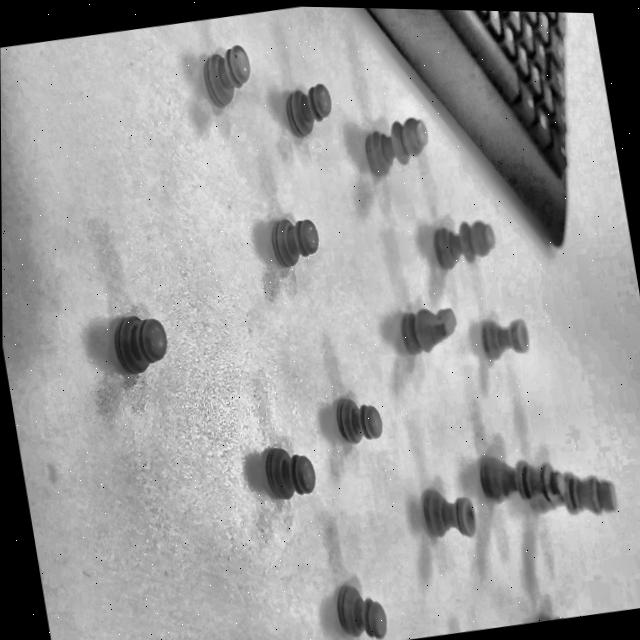white-bishop: (354, 112, 433, 184), (422, 210, 499, 276)
white-king: (512, 438, 623, 536)
white-knight: (387, 293, 460, 359), (532, 595, 589, 623)
white-pawn: (98, 281, 178, 391), (181, 28, 264, 122), (247, 429, 323, 514), (321, 372, 390, 456), (259, 198, 330, 279), (325, 565, 392, 640), (276, 79, 339, 140)
white-queen: (470, 437, 571, 519)
white-rook: (406, 474, 479, 553), (472, 301, 538, 372)
